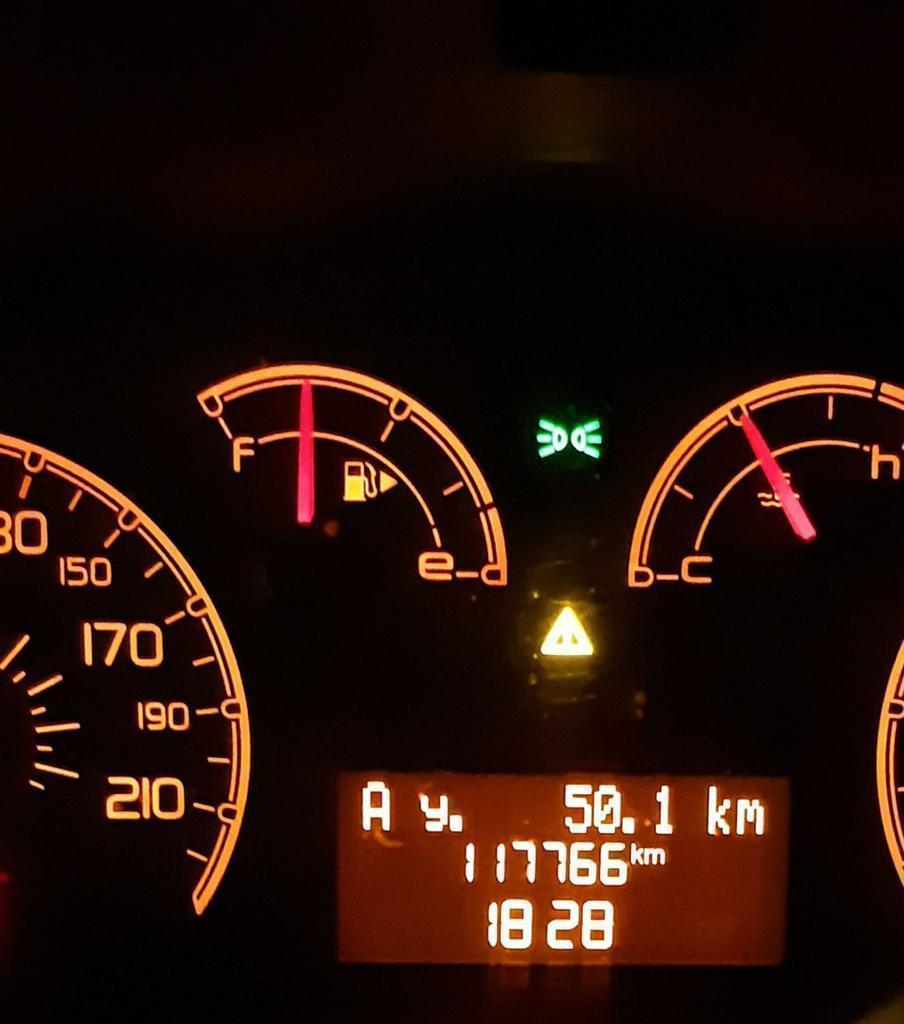,: (620, 813, 637, 836), (448, 813, 464, 835)
0: (593, 782, 622, 835)
1: (651, 778, 676, 837), (486, 898, 499, 951), (493, 838, 507, 887), (463, 840, 476, 885)
2: (545, 897, 579, 950)
5: (563, 782, 593, 833)
6: (569, 840, 598, 886), (600, 840, 628, 887)
7: (541, 838, 567, 885), (510, 839, 536, 884)
8: (501, 896, 534, 951), (581, 898, 614, 950)
X: (361, 779, 392, 832), (705, 784, 731, 836), (734, 796, 766, 837), (419, 793, 449, 832), (644, 846, 666, 866), (630, 841, 643, 865)
odometer: (328, 767, 796, 970)
